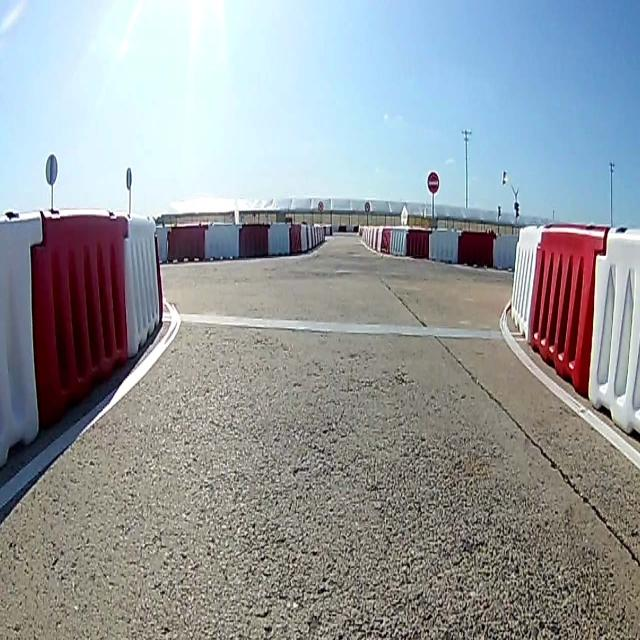girisyok: (427, 170, 441, 196)
